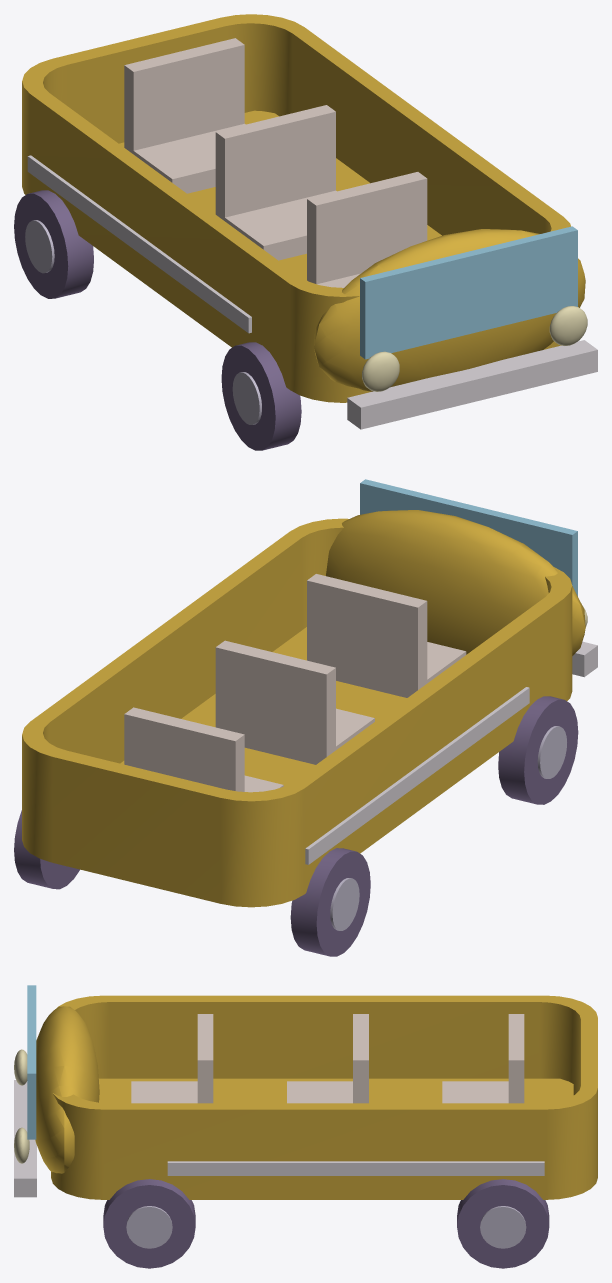
File: Bus_Yellow.glb
The picture shows the model from 3 angles, top to bottom: view 1: azimuth 30°, elevation 25°; view 2: azimuth 150°, elevation 25°; view 3: azimuth 270°, elevation 25°; orthographic projection. The views are drawn at different scales.
Visible parts, largest first — view 1: Body, Wheel_1, Wheel_3; view 2: Body, Wheel_3, Wheel_1, Wheel_4; view 3: Body, Wheel_2, Wheel_4.
Part boxes in pixels (x1,y1,x2,y2): Body: (22, 14, 597, 429); Wheel_1: (221, 342, 301, 450); Wheel_3: (14, 190, 93, 298); Body: (22, 479, 597, 907); Wheel_3: (290, 848, 370, 956); Wheel_1: (498, 696, 578, 804); Wheel_4: (14, 810, 79, 889); Body: (14, 985, 597, 1199); Wheel_2: (103, 1179, 195, 1268); Wheel_4: (457, 1179, 549, 1268).
Size of the model in its own units: 2.49 by 1.63 by 4.81.
